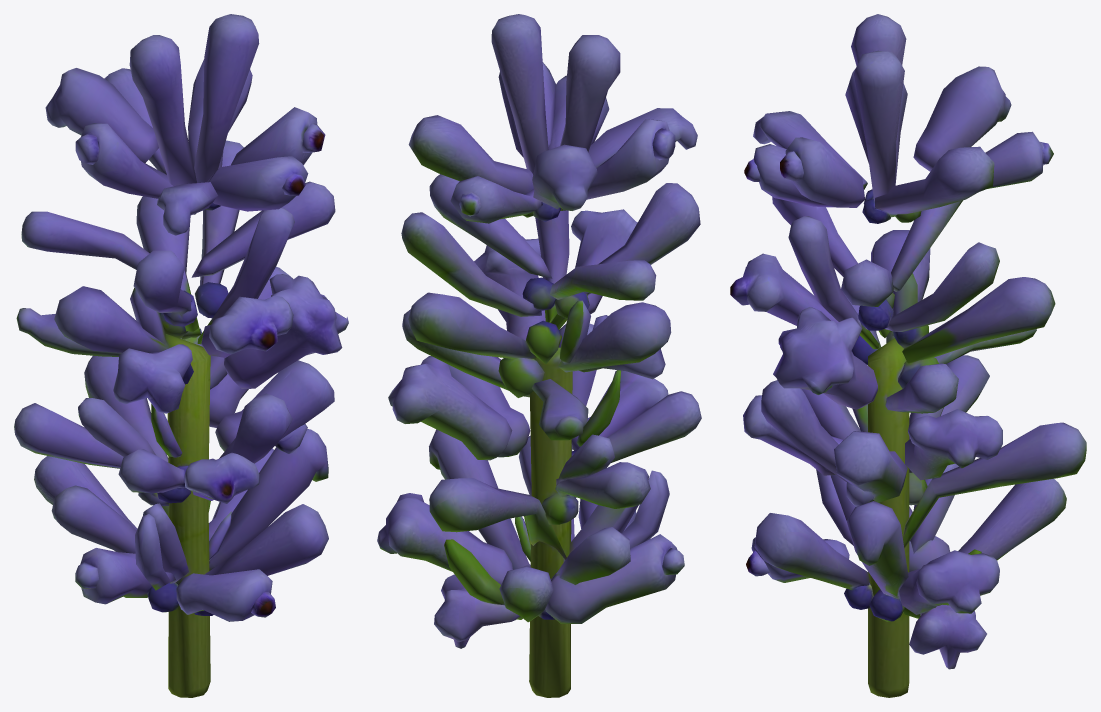
File: yuki-lavender.glb
3 views of the same model, side by side, from view 1: azimuth 30°, elevation 25°; view 2: azimuth 150°, elevation 25°; view 3: azimuth 270°, elevation 25° (orthographic).
Visible parts, largest first — view 1: tripo_node_87bc3809-44d6-4566-a6f8-9f0bcccf2600; view 2: tripo_node_87bc3809-44d6-4566-a6f8-9f0bcccf2600; view 3: tripo_node_87bc3809-44d6-4566-a6f8-9f0bcccf2600.
Part boxes in pixels (x1,y1,x2,y2): tripo_node_87bc3809-44d6-4566-a6f8-9f0bcccf2600: (14,14,348,697); tripo_node_87bc3809-44d6-4566-a6f8-9f0bcccf2600: (377,14,701,697); tripo_node_87bc3809-44d6-4566-a6f8-9f0bcccf2600: (730,14,1086,697).
Bounding box in the file's own units: 0.4199 × 0.998 × 0.4902.
Materials: 1 (1 with a texture image).
